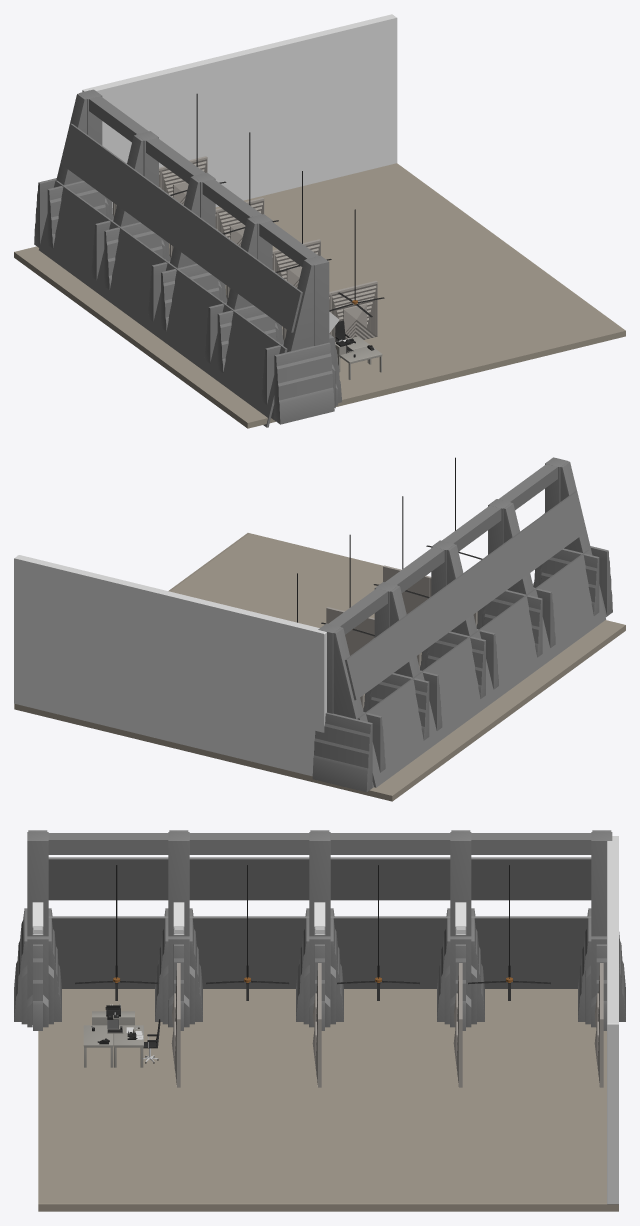
The model's file is blade_runner_office_stage.glb.
The picture shows the model from 3 angles, top to bottom: view 1: azimuth 30°, elevation 25°; view 2: azimuth 150°, elevation 25°; view 3: azimuth 270°, elevation 25°; orthographic projection. The views are drawn at different scales.
Visible parts, largest first — view 1: floor, back_wall, pillar_base, outside_wall_bottom_panel, outside_wall_middle_panel, sound_barrier, beam, fan, desk.001; view 2: back_wall, pillar_base, floor, outside_wall_bottom_panel, outside_wall_middle_panel, beam, sound_barrier, fan; view 3: floor, outside_wall_bottom_panel, pillar_base, outside_wall_middle_panel, beam, back_wall, sound_barrier, fan, lamp, sound_barrier.001, desk.001, desk.
Boxes of the visible parts, box(x1,y1,x2,y2) form: floor: box(14, 163, 625, 428); back_wall: box(82, 14, 397, 213); pillar_base: box(34, 89, 341, 424); outside_wall_bottom_panel: box(39, 180, 287, 427); outside_wall_middle_panel: box(61, 123, 302, 332); sound_barrier: box(160, 156, 377, 341); beam: box(89, 96, 318, 266); fan: box(170, 93, 384, 317); desk.001: box(338, 346, 382, 379); back_wall: box(14, 555, 326, 776); pillar_base: box(312, 457, 612, 792); floor: box(14, 533, 625, 801); outside_wall_bottom_panel: box(357, 550, 606, 787); outside_wall_middle_panel: box(345, 491, 586, 700); beam: box(328, 464, 557, 634); sound_barrier: box(326, 565, 430, 655); fan: box(297, 457, 482, 636); floor: box(38, 989, 618, 1211); outside_wall_bottom_panel: box(48, 916, 591, 988); pillar_base: box(14, 830, 625, 1030); outside_wall_middle_panel: box(48, 857, 591, 900); beam: box(48, 833, 591, 854); back_wall: box(607, 836, 618, 1204); sound_barrier: box(171, 991, 603, 1087); fan: box(75, 865, 550, 1000); lamp: box(32, 902, 466, 935); sound_barrier.001: box(171, 963, 603, 1028); desk.001: box(83, 1025, 113, 1067); desk: box(113, 1025, 143, 1067).
Size of the model in its own units: 17269 by 7215 by 19458.
